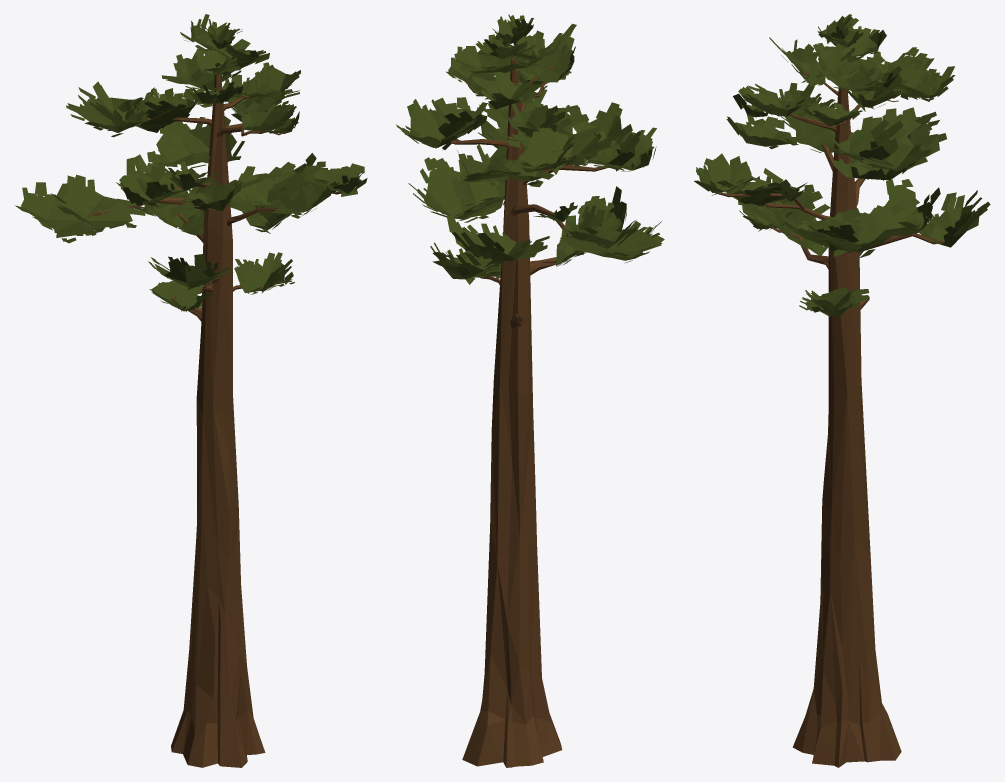
The model's file is SM_Tree_Sequoia_Mature_A.fbx.
3 views of the same model, side by side, from view 1: azimuth 30°, elevation 25°; view 2: azimuth 150°, elevation 25°; view 3: azimuth 270°, elevation 25° (orthographic).
Parts seen in each view (by area): view 1: tree-sequoia-mature-a; view 2: tree-sequoia-mature-a; view 3: tree-sequoia-mature-a.
Part boxes in pixels (bbox=[...]): tree-sequoia-mature-a: bbox=[15, 14, 367, 767]; tree-sequoia-mature-a: bbox=[396, 14, 664, 767]; tree-sequoia-mature-a: bbox=[694, 14, 990, 767].
Size of the model in its own units: 9.08 by 24.08 by 8.9.
